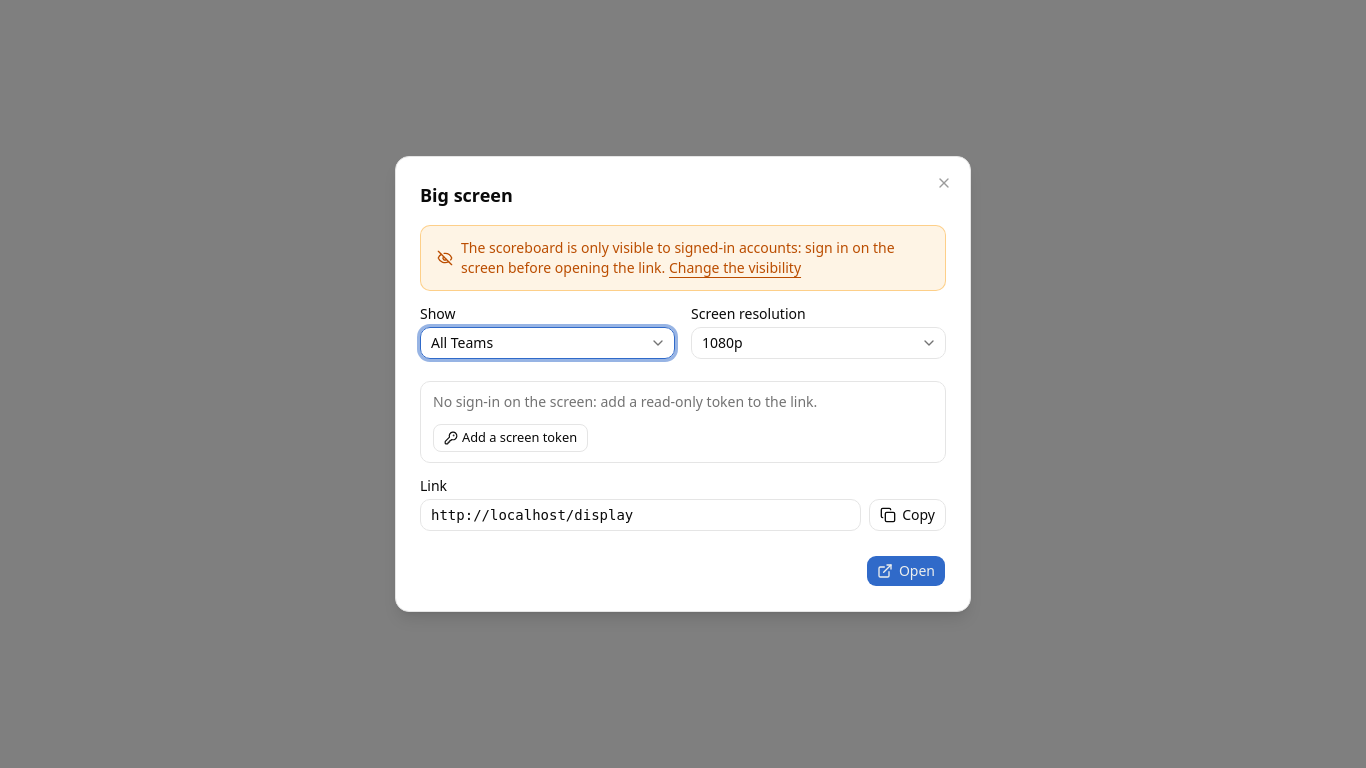
Test case: adds a read-only screen token to the link, which lifts the sign-in warning
This screenshot has width=1366, height=768.
Check: the text "sign in on the screen" is shown, box [461,238,895,277]
What coordinates should you click on to do the following:
click the button "Add a screen token"
I would click on:
 (510, 438)
Its box is [433,424,588,452].
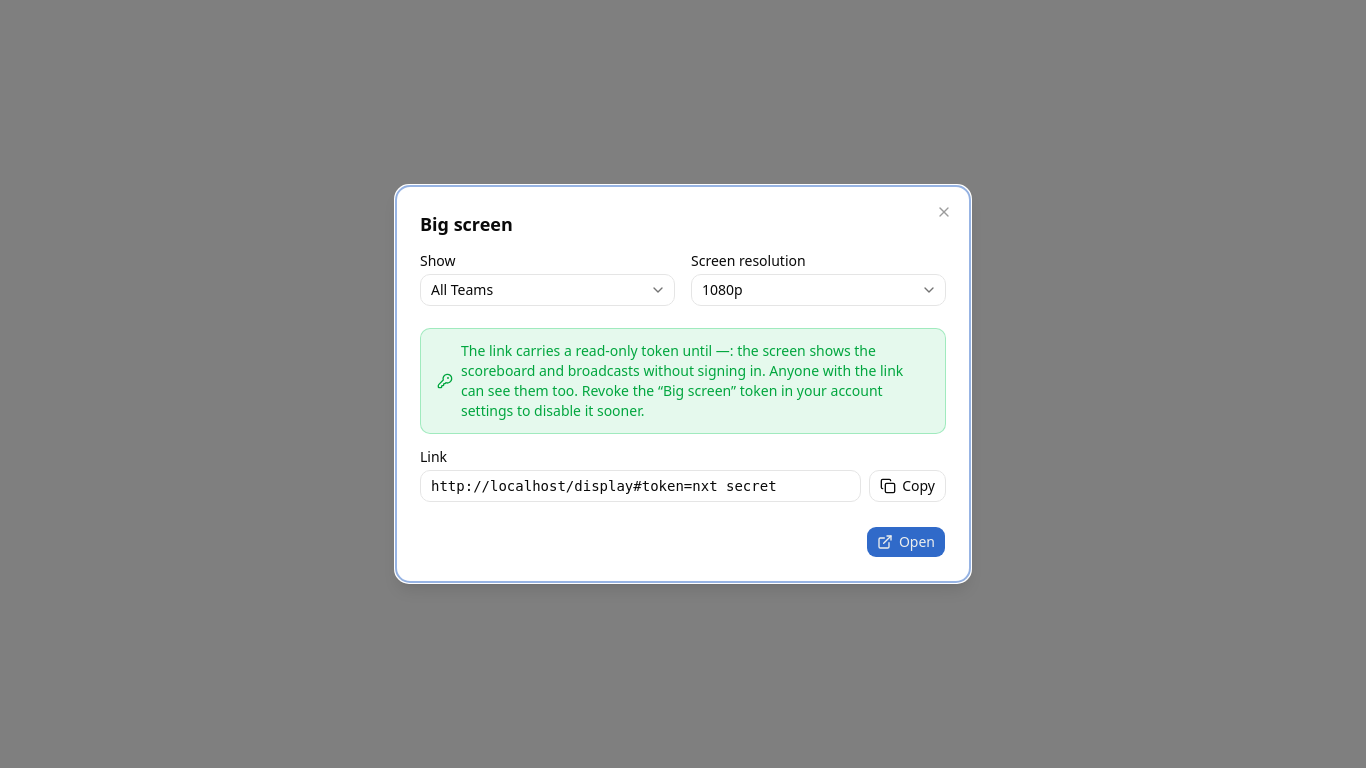
Check: the text "carries a read-only token" is shown, box [461,341,903,420]
Check: the text "sign in on the screen" is gone
